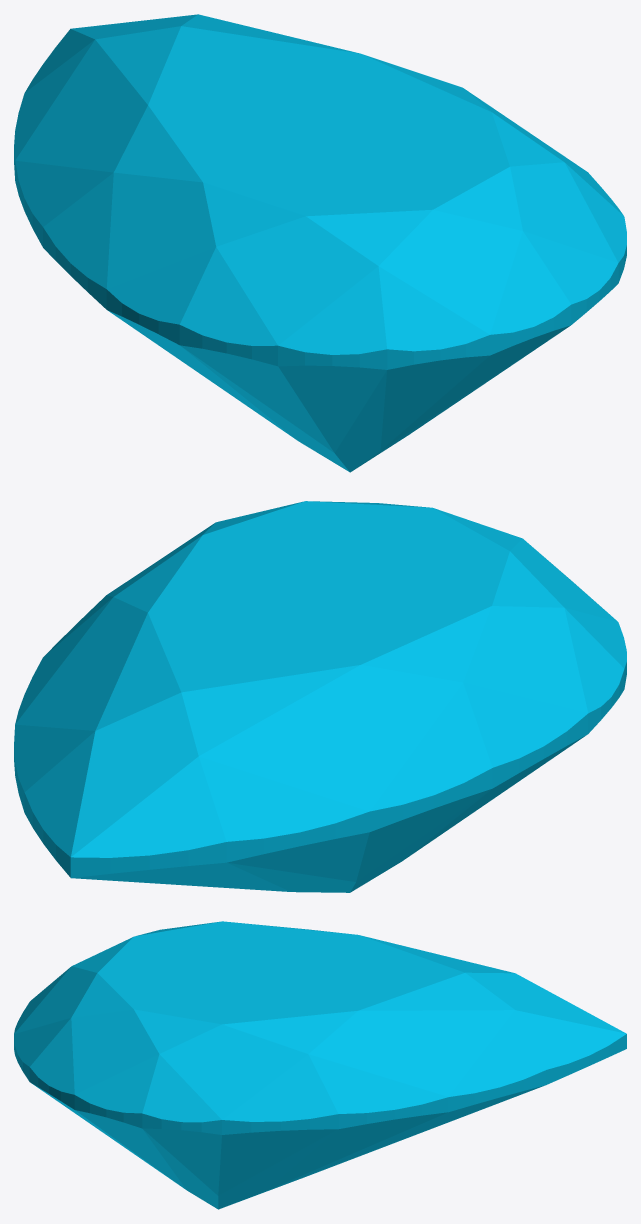
The model's file is Head_No Halo_Pear_1.5ct_Diamond.glb.
The picture shows the model from 3 angles, top to bottom: view 1: azimuth 30°, elevation 25°; view 2: azimuth 150°, elevation 25°; view 3: azimuth 270°, elevation 25°; orthographic projection. The views are drawn at different scales.
Size of the model in its own units: 0.00648 by 0.00416 by 0.00977.
